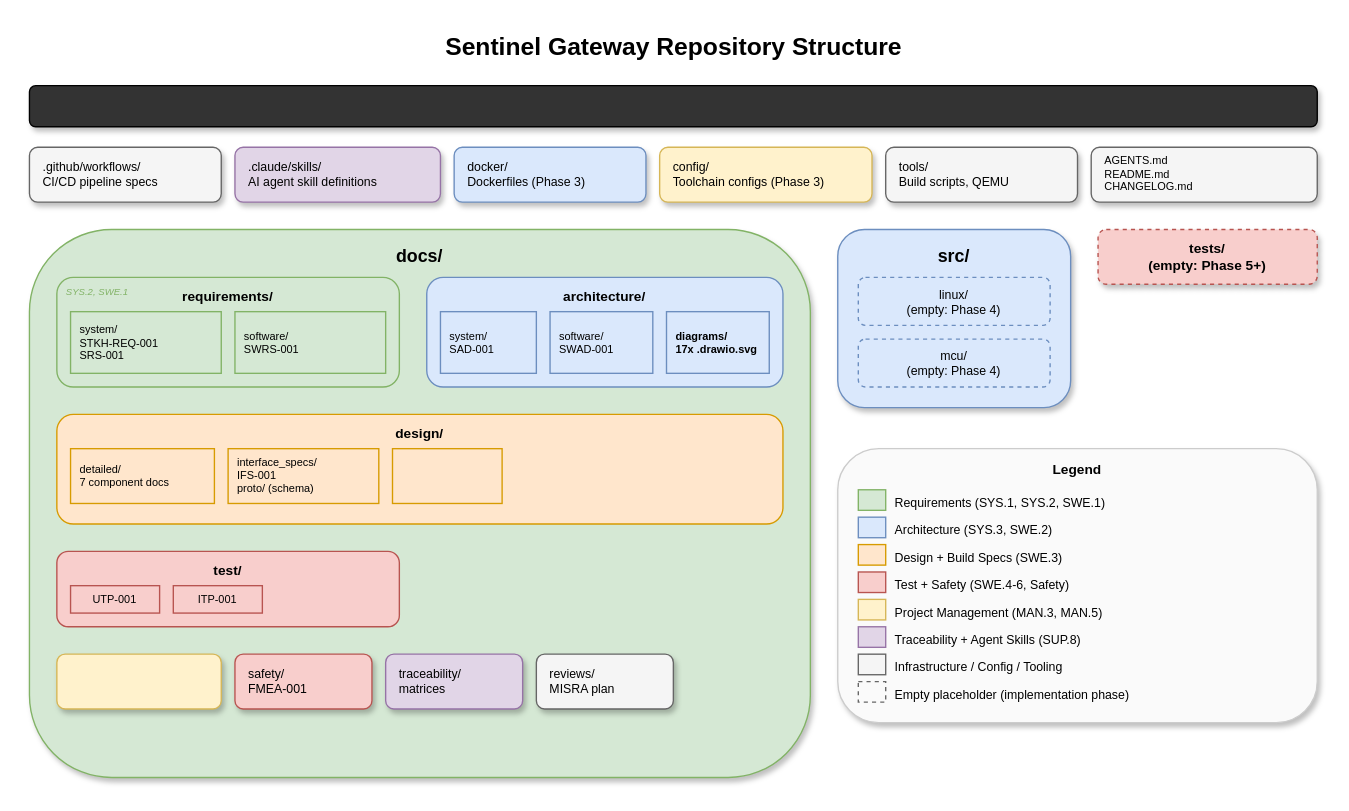
Some shapes in this 1349 by 811 pixel diagram are drawn without their labels. The shapes that lost their labels are listed below. From the top down, each one's centre as x and y in pixels, then its label:
At pixel 674 107: "sentinel-gateway/".
At pixel 446 475: "BUILD-001 BSS-001 SIL-001".
At pixel 139 683: "project/ PP-001, RR-001".
